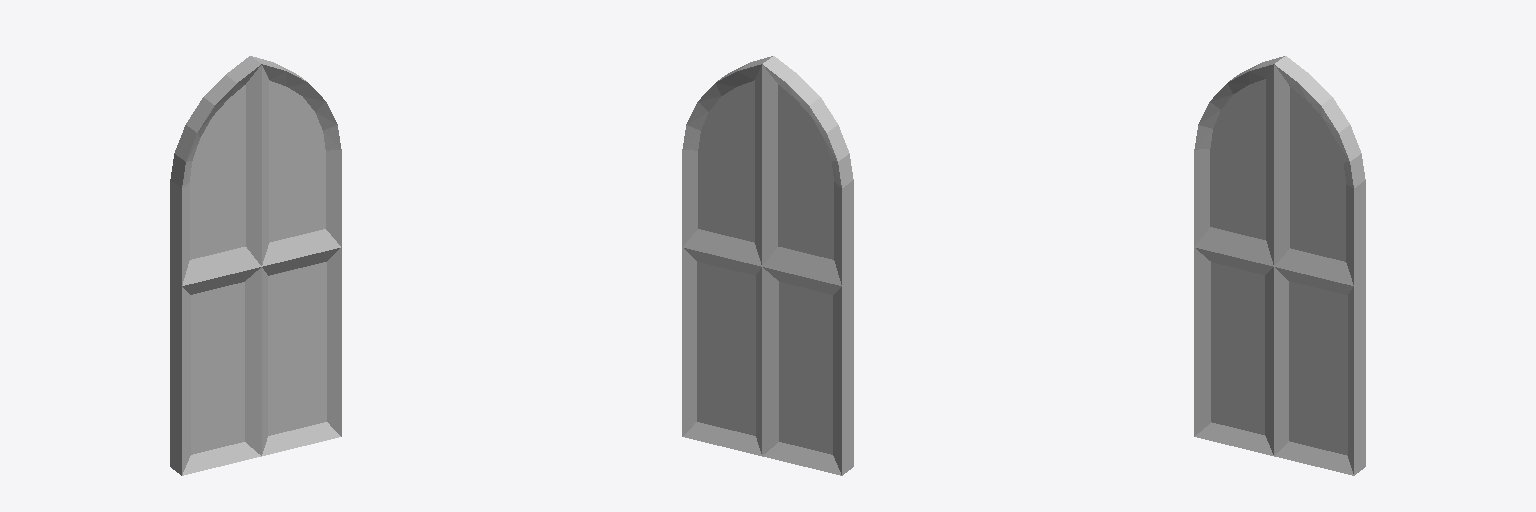
File: door.obj
The picture shows the model from 3 angles: view 1: azimuth 30°, elevation 25°; view 2: azimuth 150°, elevation 25°; view 3: azimuth 330°, elevation 25°; orthographic projection.
Parts seen in each view (by area): view 1: [Imported]_Door_Door; view 2: [Imported]_Door_Door; view 3: [Imported]_Door_Door.
Boxes of the visible parts, box(x1,y1,x2,y2) form: [Imported]_Door_Door: box(170, 56, 341, 475); [Imported]_Door_Door: box(682, 56, 853, 475); [Imported]_Door_Door: box(1194, 56, 1365, 475).
Bounding box in the file's own units: 4.25 × 9.99 × 0.5382.